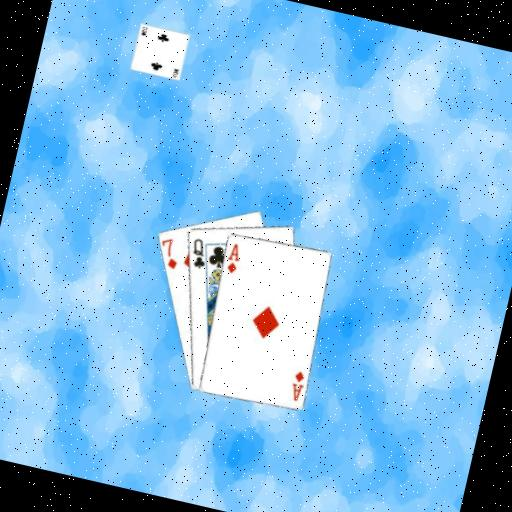7D: (154, 233, 185, 272)
AD: (221, 239, 245, 276), (285, 367, 308, 404)
QC: (185, 234, 213, 271)
